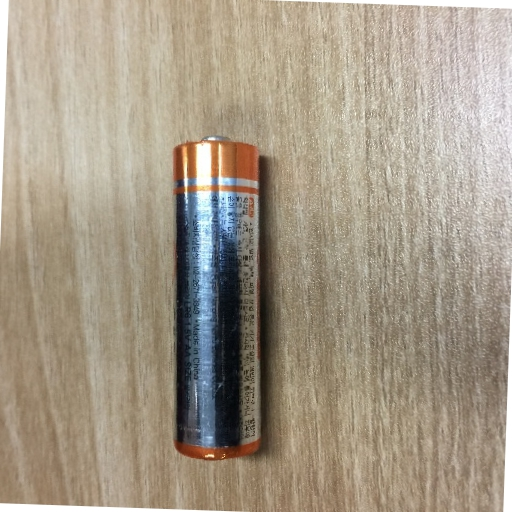Battery_0: (161, 128, 283, 474)
